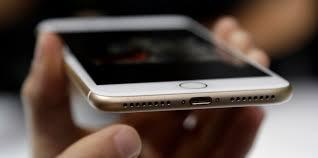Hand: (25, 32, 288, 158)
Smartphone: (46, 19, 288, 106)
